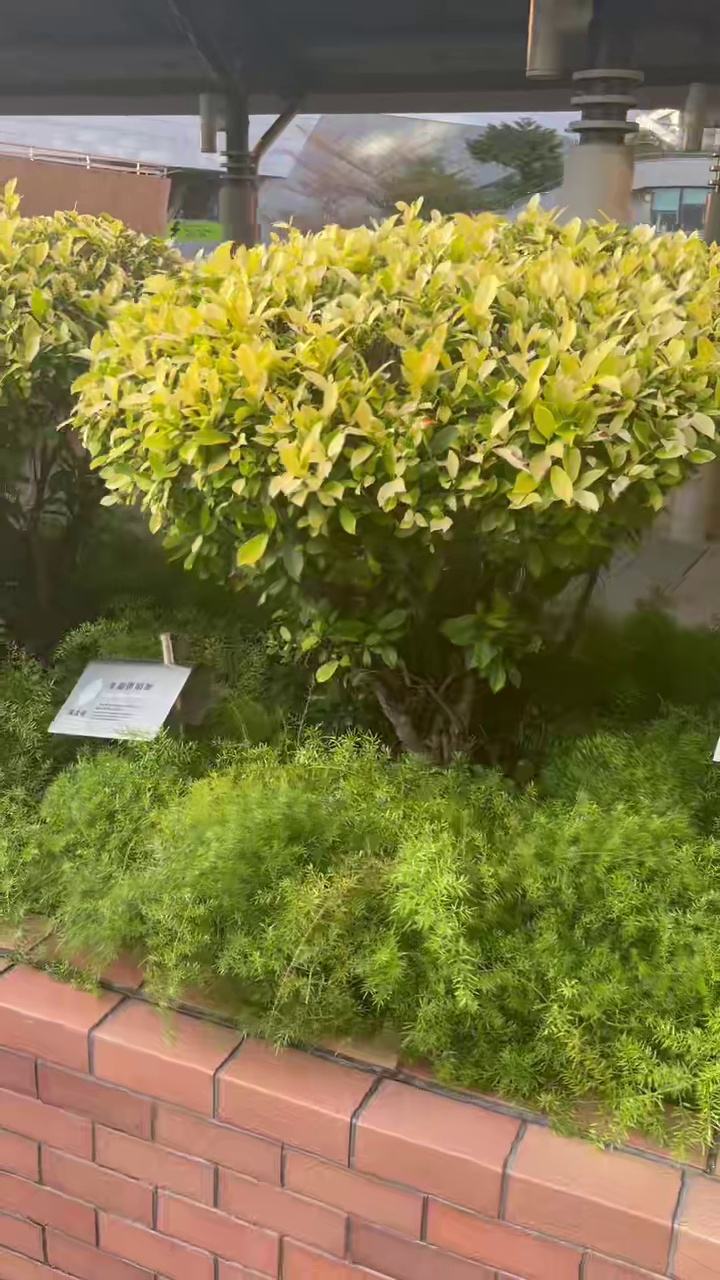Golden-leaves Fig: (76, 200, 719, 762)
